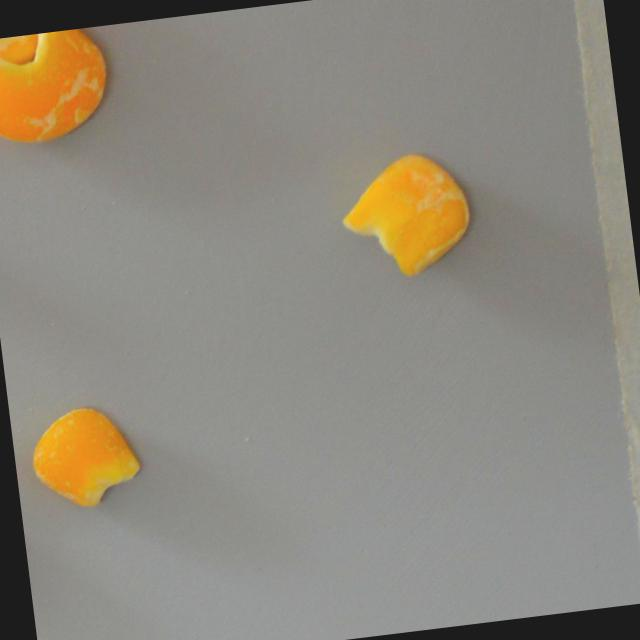pelicula: (334, 147, 477, 284), (0, 24, 115, 147), (25, 402, 144, 513)
